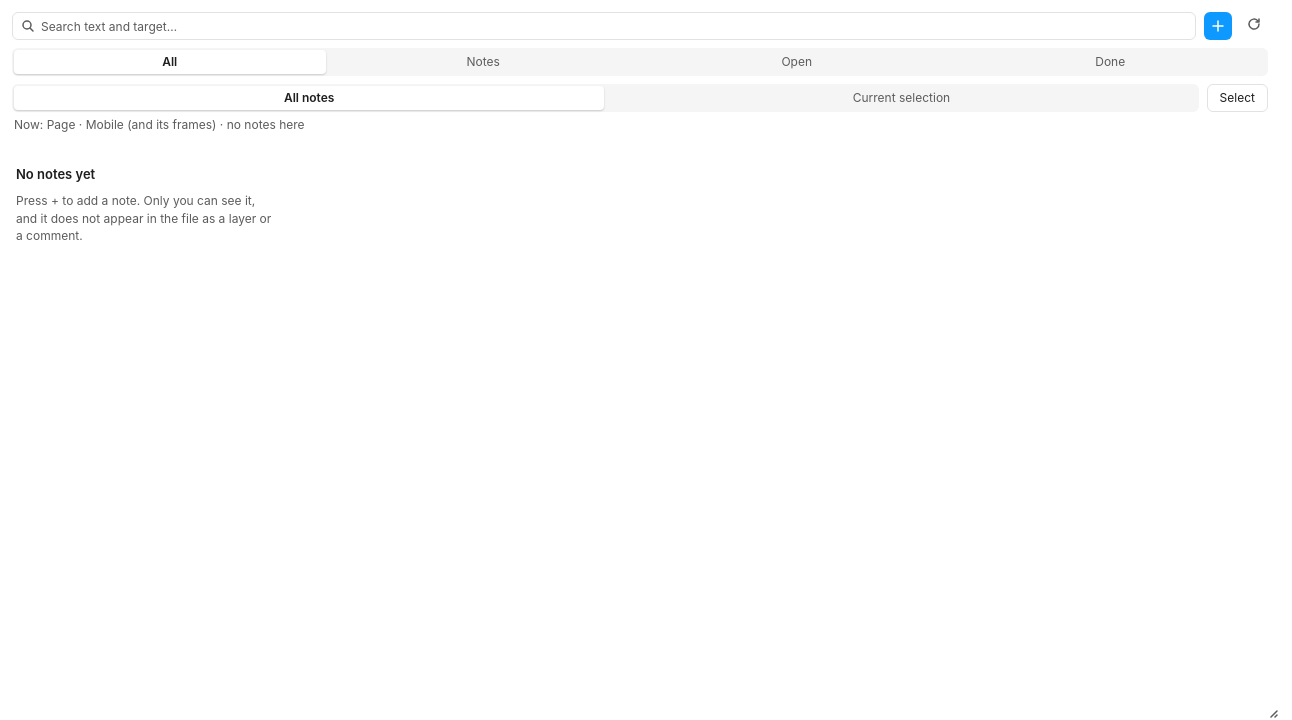
refreshing when the window gets the focus back › drops a note that Undo removed from the document, and from the selection
Expected: the button named "Add note" is shown, [1204, 12, 1232, 40]
Click the button named "Refresh the list": (1254, 26) [1240, 12, 1268, 40]
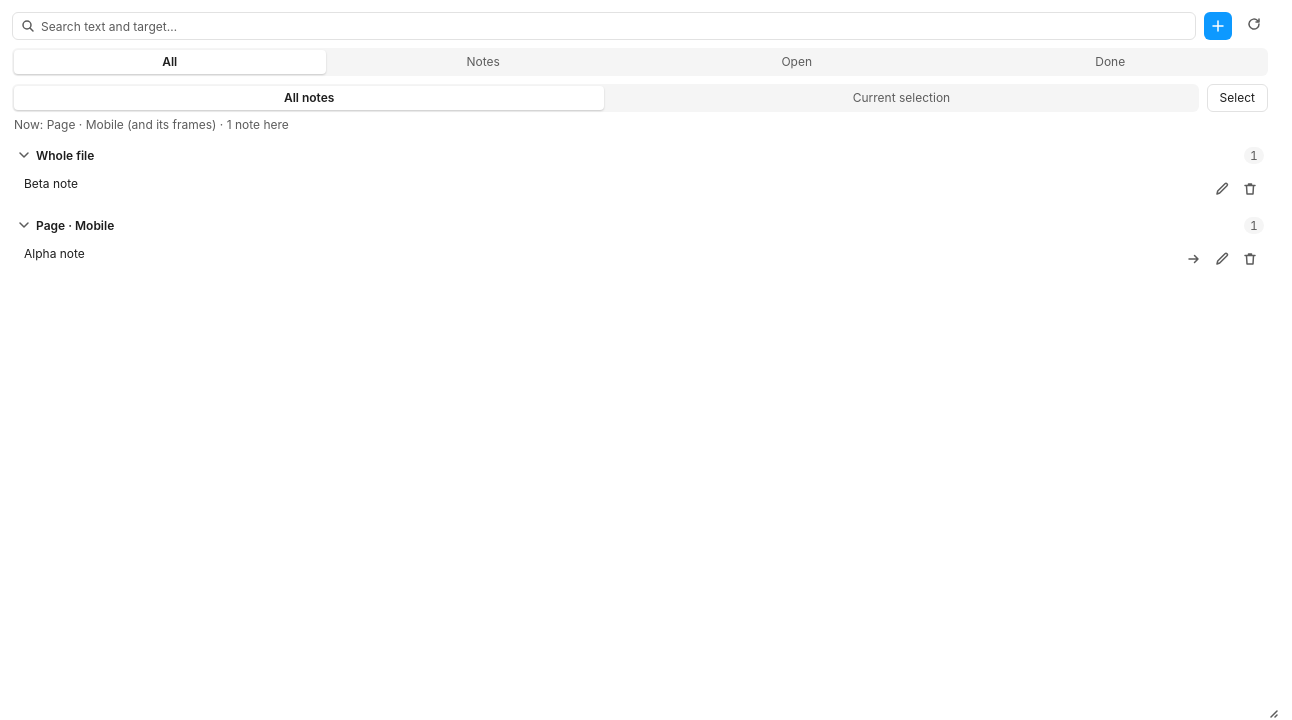
Expected: the text "Alpha note" is shown, [24, 246, 85, 261]
Click the button "Select": (1237, 98) [1207, 84, 1268, 112]
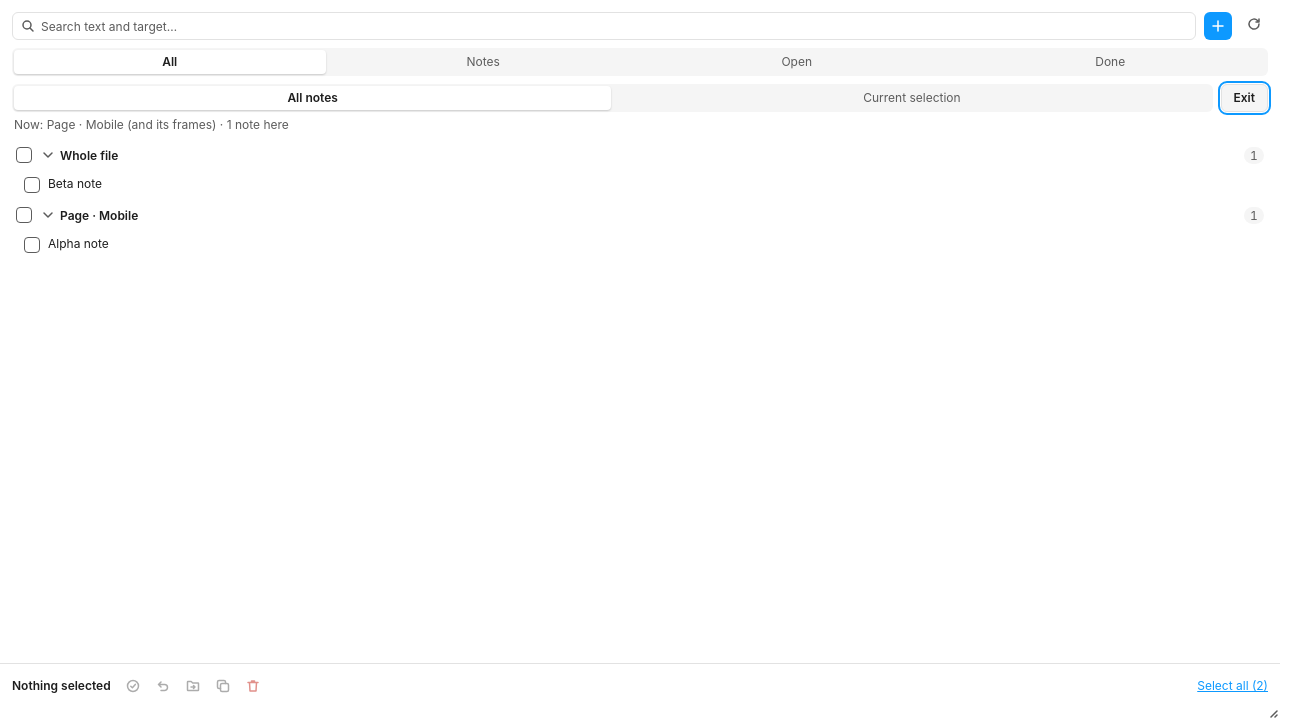
Click the button "Select all (2)": (1233, 686) [1197, 677, 1268, 695]
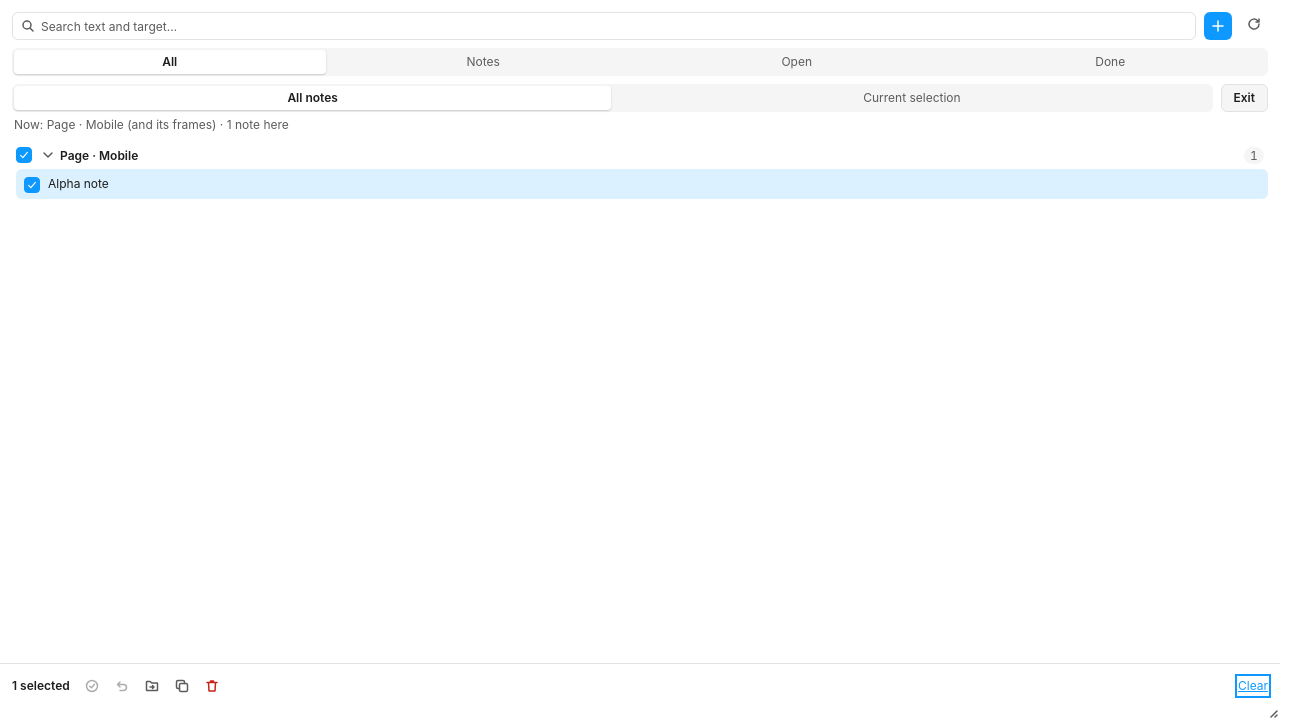
Expected: the text "Beta note" is gone
Expected: the text "1 selected" is shown, [12, 677, 70, 695]
